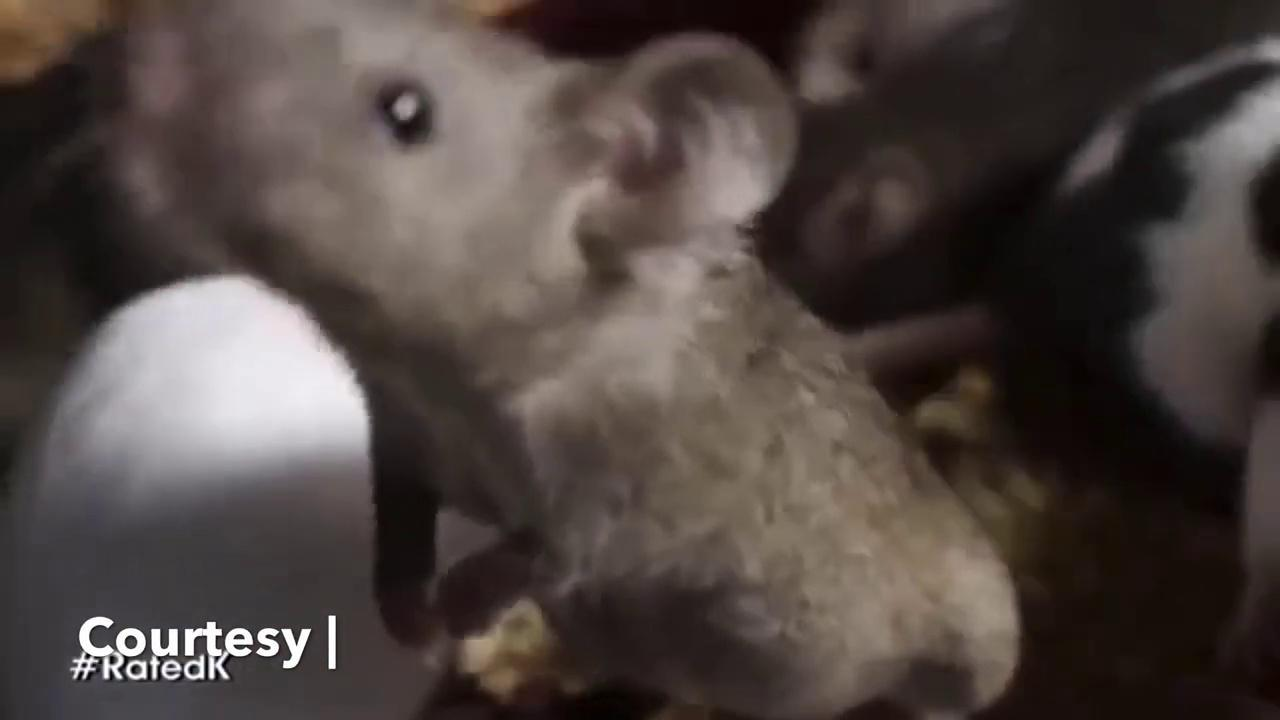rat: (121, 0, 1019, 720)
